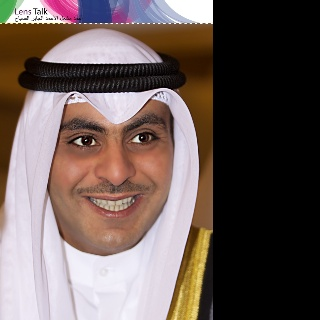without_mask: (47, 95, 173, 254)
